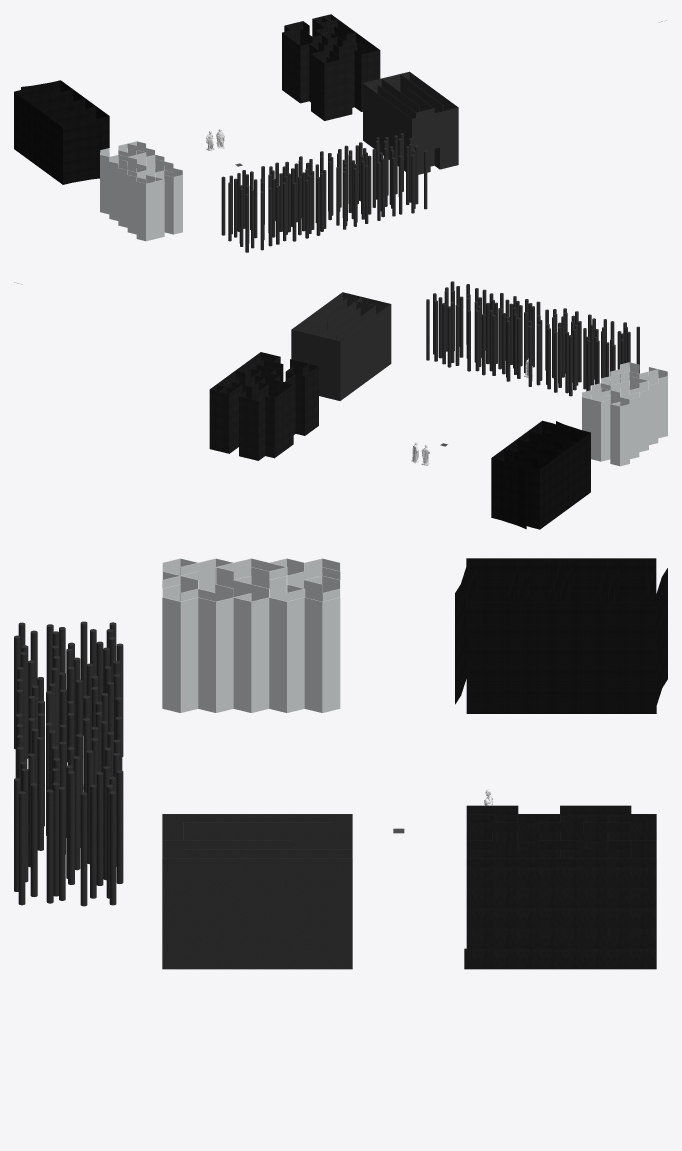
Rendered from project7.glb.
The picture shows the model from 3 angles, top to bottom: view 1: azimuth 30°, elevation 25°; view 2: azimuth 150°, elevation 25°; view 3: azimuth 270°, elevation 25°; orthographic projection. The views are drawn at different scales.
Parts seen in each view (by area): view 1: festék - fényes fehér; view 2: festék - fényes fehér; view 3: festék - fényes fehér.
Boxes of the visible parts, x1,y1,x2,y2 form: festék - fényes fehér: [14, 14, 665, 252]; festék - fényes fehér: [14, 281, 667, 529]; festék - fényes fehér: [14, 558, 667, 969].
Bounding box in the file's own units: 57.55 × 6.05 × 29.04.
9 materials, 4 textured.
